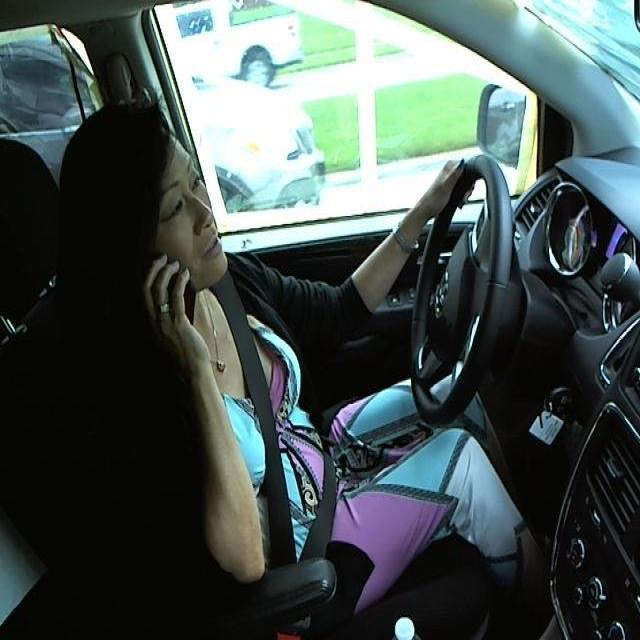using_phone: (41, 74, 283, 355)
